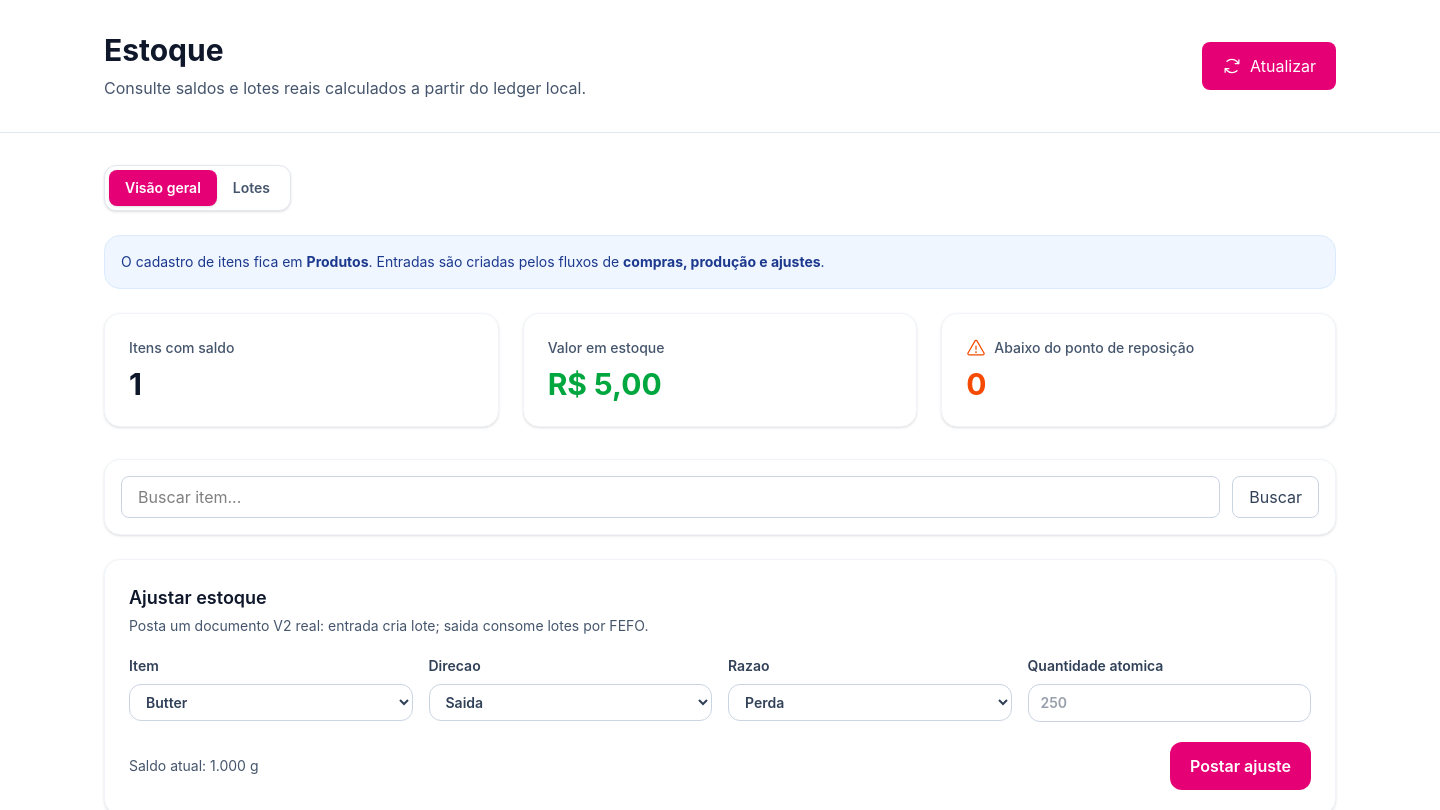
Test: InventoryPage › shows lots as a view inside inventory
What coordinates should you click on to do the following:
click the tab "Lotes"
I would click on:
 (251, 188)
Its box is [217, 170, 286, 206].
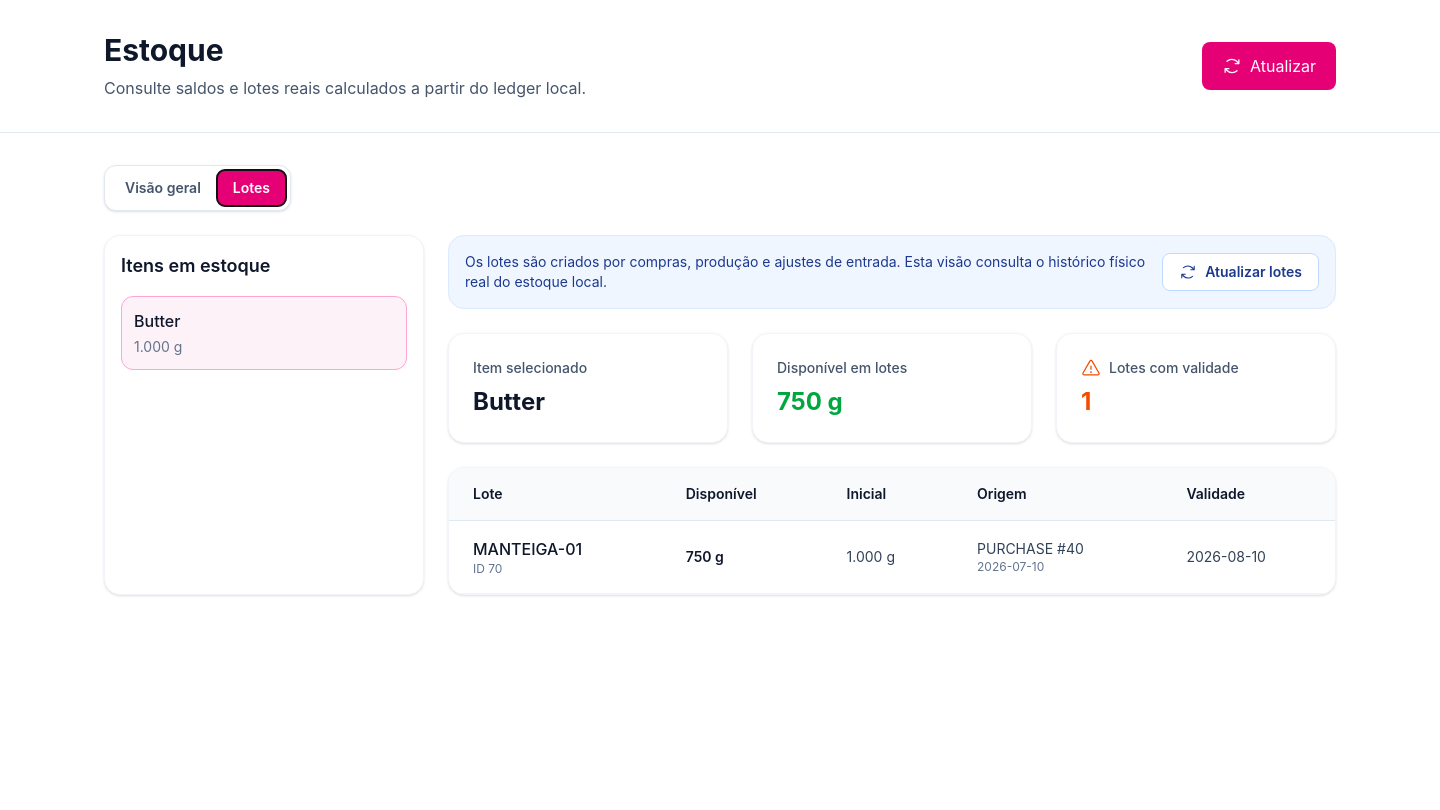
expect the text "MANTEIGA-01" is shown: met, box [473, 539, 582, 559]
expect the heading "Itens em estoque" is shown: met, box [121, 255, 270, 276]
